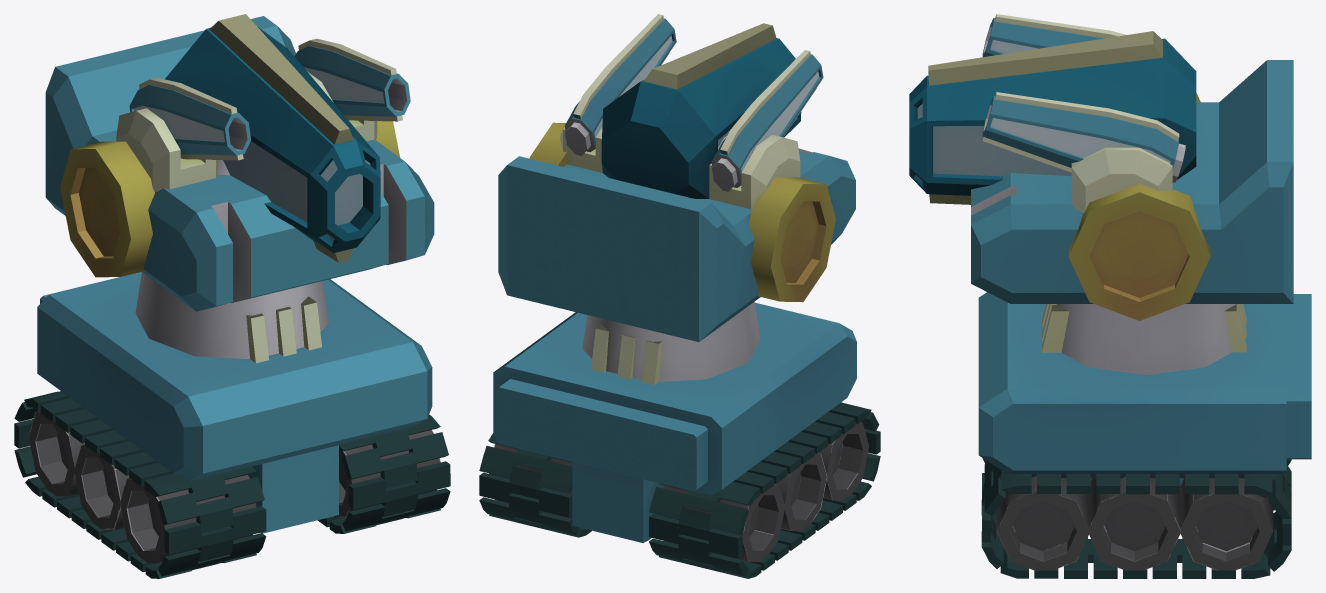
Rendered from player_idle_1_upgrade0.obj.
3 views of the same model, side by side, from view 1: azimuth 30°, elevation 25°; view 2: azimuth 150°, elevation 25°; view 3: azimuth 270°, elevation 25° (orthographic). The views are drawn at different scales.
Parts seen in each view (by area): view 1: Object004, Box038, Object012, Object011, Box042; view 2: Object004, Box038, Object012, Object011, Box042; view 3: Object004, Object011, Object012, Box042.
Part boxes in pixels (box(x1,y1,x2,y2)): Object004: box(37, 14, 434, 533); Box038: box(14, 391, 266, 578); Object012: box(129, 38, 410, 160); Object011: box(28, 411, 440, 563); Box042: box(318, 414, 450, 533); Object004: box(493, 23, 856, 542); Box038: box(649, 402, 880, 578); Object012: box(564, 14, 823, 191); Object011: box(489, 422, 868, 561); Box042: box(479, 433, 591, 537); Object004: box(909, 31, 1311, 510); Object011: box(996, 476, 1273, 570); Object012: box(982, 14, 1185, 182); Box042: box(981, 461, 1291, 578).
Size of the model in its own units: 110 by 178 by 136.
Materials: 4 (2 with a texture image).
